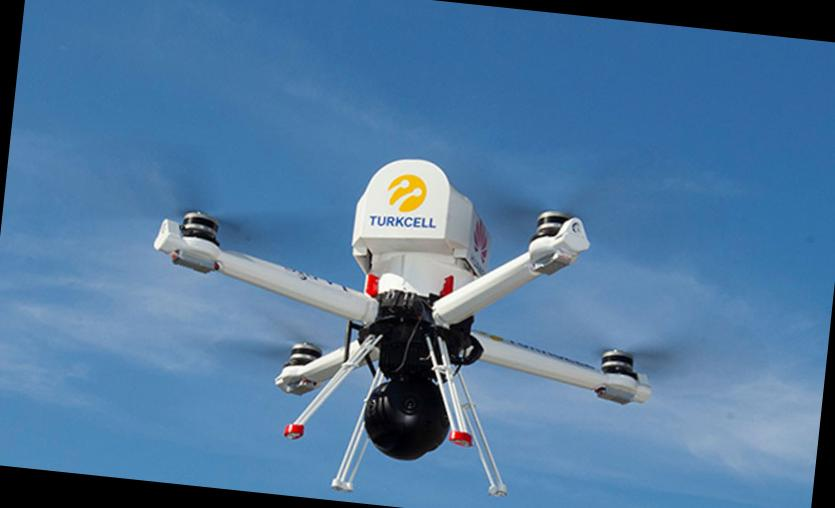drone: (110, 158, 758, 476)
